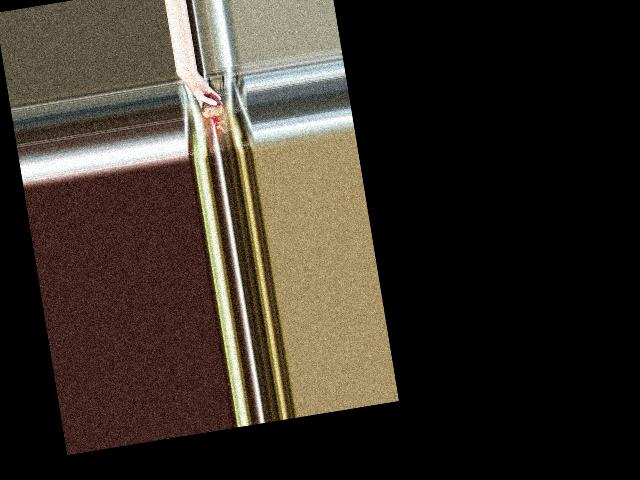beet: (199, 92, 227, 135)
